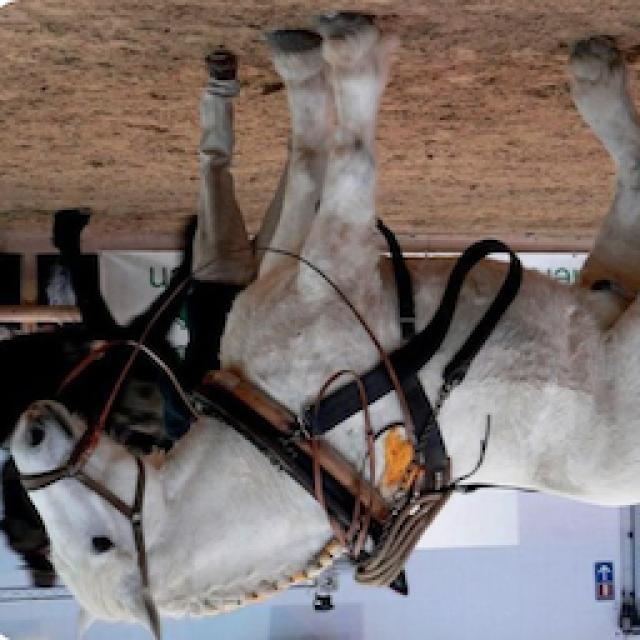Horse: (5, 10, 640, 640)
